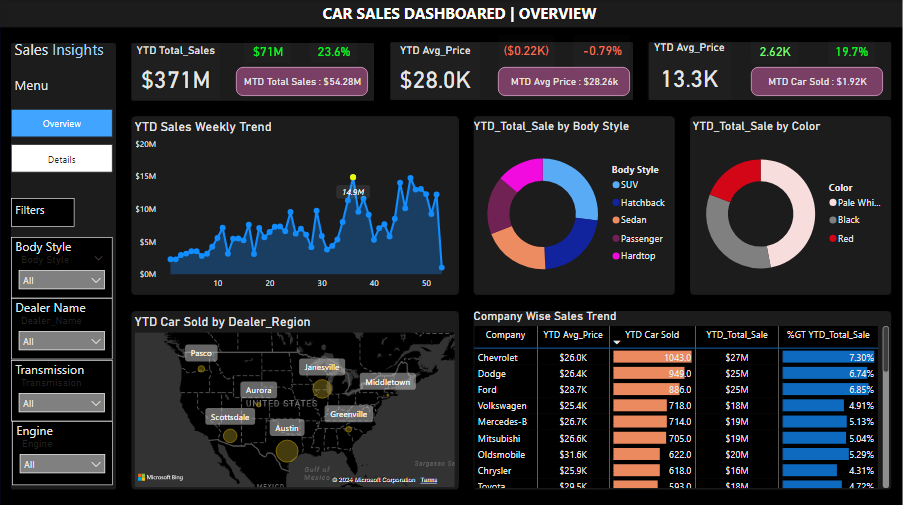

The page's visual inventory and layout, read from the dashboard file:
{"tool":"powerbi","page":{"name":"Overview","canvas":[1280,720],"ordinal":0},"visuals":[{"type":"card","title":"YTD Total_Sales","fields":{"Values":["car_data.YTD_Total_Sale"]},"box":[186.9,62.8,127,79.9],"z":0},{"type":"card","fields":{"Values":["car_data.Sales Difference"]},"box":[346.9,58.1,68.3,33.3],"z":1000},{"type":"card","fields":{"Values":["car_data.YOY Sales_Growth"]},"box":[440.2,58.1,68.3,33.3],"z":2000},{"type":"card","fields":{"Values":["car_data.MTD KPI"]},"box":[335.3,97,186.9,41.4],"z":3000},{"type":"card","title":"YTD Avg_Price","fields":{"Values":["car_data.YTD Avg_Price"]},"box":[553.7,62.8,128.4,79.9],"z":4000},{"type":"card","fields":{"Values":["car_data.Avg Price Diff"]},"box":[707.8,51.4,79.9,45.7],"z":5000},{"type":"card","fields":{"Values":["car_data.YOY Avg Price Growth"]},"box":[814.8,51.4,79.9,45.7],"z":6000},{"type":"card","fields":{"Values":["car_data.MTD Avg_Price KPI"]},"box":[707.8,97,186.9,41.4],"z":7000},{"type":"card","title":"YTD Avg_Price","fields":{"Values":["car_data.YTD Car Sold"]},"box":[919,58.5,119.9,87],"z":8000},{"type":"card","fields":{"Values":["car_data.Car Sold Diff"]},"box":[1066,58.5,68.5,34.2],"z":9000},{"type":"card","fields":{"Values":["car_data.YOY Car Sold Growth"]},"box":[1174.4,58.5,67.1,34.2],"z":10000},{"type":"card","fields":{"Values":["car_data.MTD Car Sold KPI"]},"box":[1066,97,186.9,41.4],"z":11000},{"type":"areaChart","title":"YTD Sales Weekly Trend","fields":{"Y":["Sum(car_data.Price ($))","car_data.Max Point"],"Category":["Calender_Table.Week"]},"box":[187.1,170,462.9,250],"z":12000},{"type":"donutChart","fields":{"Y":["car_data.YTD_Total_Sale"],"Category":["car_data.Body Style"]},"box":[667.1,170,290,250],"z":13000},{"type":"donutChart","fields":{"Y":["car_data.YTD_Total_Sale"],"Category":["car_data.Color"]},"box":[978.6,170,287.1,250],"z":14000},{"type":"tableEx","title":"Company Wise Sales Trend","fields":{"Values":["car_data.Company","car_data.YTD Avg_Price","car_data.YTD Car Sold","car_data.YTD_Total_Sale1","car_data.YTD_Total_Sale"]},"box":[667.1,440,598.6,258.6],"z":15000},{"type":"slicer","title":"Body Style","fields":{"Values":["car_data.Body Style"]},"box":[17.1,337.1,144.3,87.1],"z":16000},{"type":"slicer","title":"Dealer Name","fields":{"Values":["car_data.Dealer_Name"]},"box":[17.1,424.3,144.3,87.1],"z":17000},{"type":"slicer","title":"Transmission","fields":{"Values":["car_data.Transmission"]},"box":[17.1,511.4,144.3,87.1],"z":18000},{"type":"slicer","title":"Engine","fields":{"Values":["car_data.Engine"]},"box":[18.6,598.6,142.9,91.4],"z":19000},{"type":"textbox","box":[17.1,281.4,90,41.4],"z":20000},{"type":"textbox","box":[17.1,51.4,144.3,51.4],"z":21000},{"type":"textbox","box":[17.1,102.9,85.7,40],"z":22000},{"type":"pageNavigator","box":[17.1,155.5,144.1,91.3],"z":23000},{"type":"map","fields":{"Category":["car_data.Dealer_Region"],"Size":["car_data.YTD Car Sold"]},"box":[186.9,446.6,463.8,251.1],"z":24000},{"type":"textbox","box":[440.8,0,423.8,39.7],"z":24001}]}

Visuals, with their boxes in screenshot pixels (x1, y1, x2, y2), scaled from the page's 1280x720 canvas onto the 903x506 screenshot:
"YTD Total_Sales" card: x1=132, y1=44, x2=221, y2=100
card - car_data.Sales Difference: x1=245, y1=41, x2=293, y2=64
card - car_data.YOY Sales_Growth: x1=311, y1=41, x2=359, y2=64
card - car_data.MTD KPI: x1=237, y1=68, x2=368, y2=97
"YTD Avg_Price" card: x1=391, y1=44, x2=481, y2=100
card - car_data.Avg Price Diff: x1=499, y1=36, x2=556, y2=68
card - car_data.YOY Avg Price Growth: x1=575, y1=36, x2=631, y2=68
card - car_data.MTD Avg_Price KPI: x1=499, y1=68, x2=631, y2=97
"YTD Avg_Price" card: x1=648, y1=41, x2=733, y2=102
card - car_data.Car Sold Diff: x1=752, y1=41, x2=800, y2=65
card - car_data.YOY Car Sold Growth: x1=829, y1=41, x2=876, y2=65
card - car_data.MTD Car Sold KPI: x1=752, y1=68, x2=884, y2=97
"YTD Sales Weekly Trend" areaChart: x1=132, y1=119, x2=459, y2=295
donutChart - car_data.YTD_Total_Sale x car_data.Body Style: x1=471, y1=119, x2=675, y2=295
donutChart - car_data.YTD_Total_Sale x car_data.Color: x1=690, y1=119, x2=893, y2=295
"Company Wise Sales Trend" tableEx: x1=471, y1=309, x2=893, y2=491
"Body Style" slicer: x1=12, y1=237, x2=114, y2=298
"Dealer Name" slicer: x1=12, y1=298, x2=114, y2=359
"Transmission" slicer: x1=12, y1=359, x2=114, y2=421
"Engine" slicer: x1=13, y1=421, x2=114, y2=485
textbox: x1=12, y1=198, x2=76, y2=227
textbox: x1=12, y1=36, x2=114, y2=72
textbox: x1=12, y1=72, x2=73, y2=100
pageNavigator: x1=12, y1=109, x2=114, y2=173
map - car_data.Dealer_Region x car_data.YTD Car Sold: x1=132, y1=314, x2=459, y2=490
textbox: x1=311, y1=0, x2=610, y2=28
